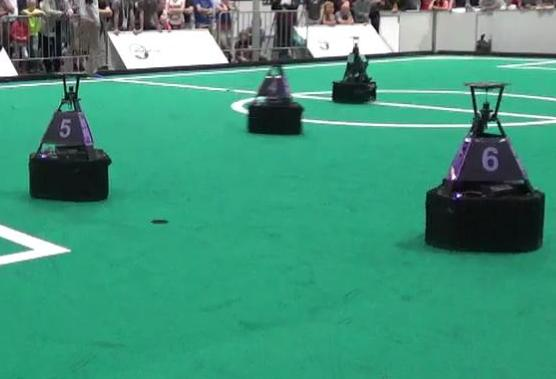robot: (425, 76, 547, 253), (24, 71, 113, 202), (244, 46, 305, 136), (331, 35, 378, 104)
